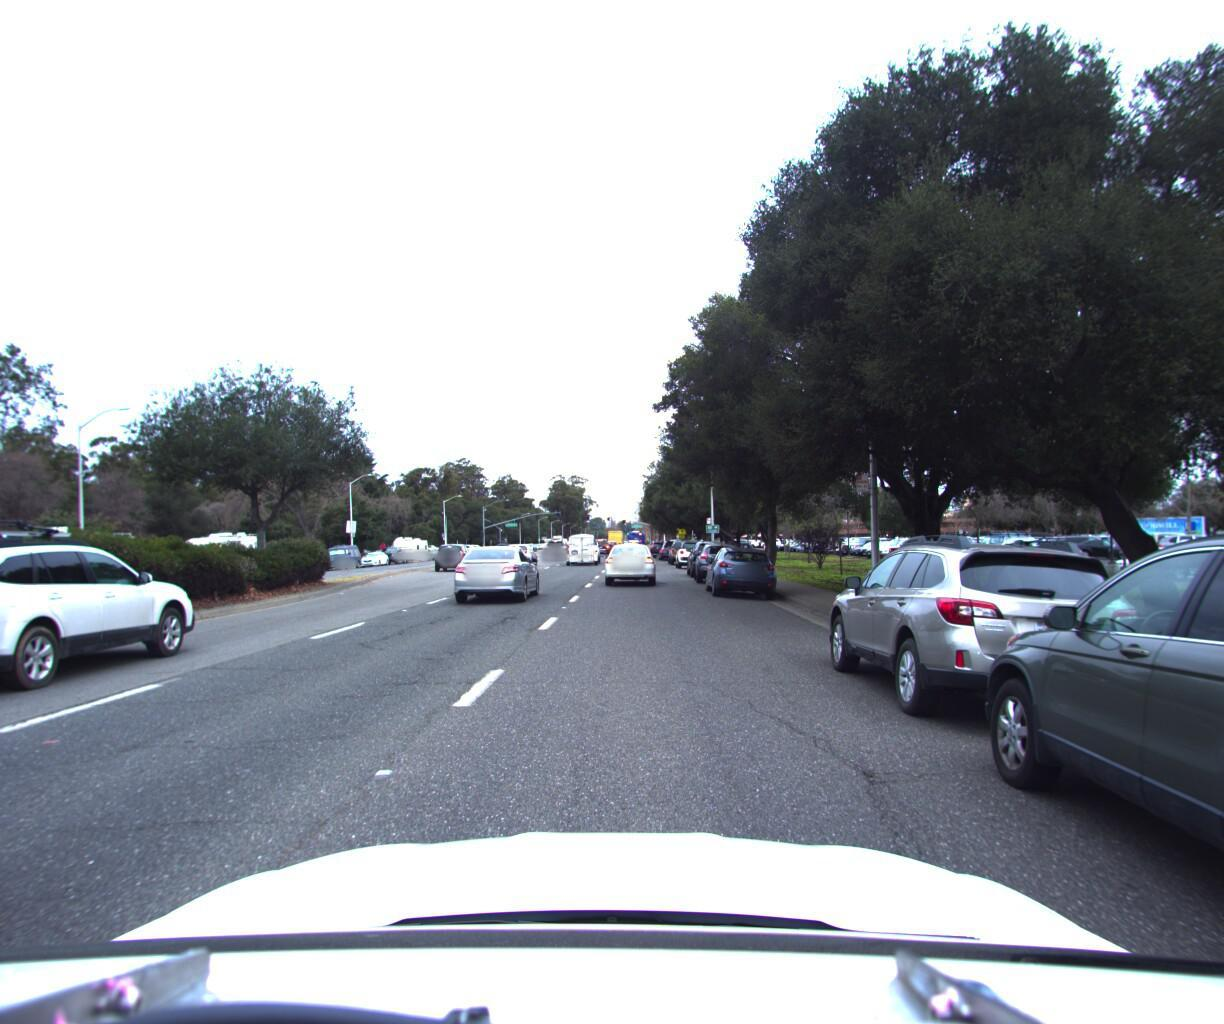car: (954, 484, 1224, 1024), (807, 518, 1182, 756), (0, 517, 209, 710), (448, 538, 543, 604), (702, 537, 777, 594), (602, 535, 656, 583), (692, 535, 741, 579), (685, 530, 734, 573), (433, 539, 476, 569), (566, 527, 603, 562), (319, 540, 363, 566), (671, 532, 707, 562), (504, 536, 539, 562), (665, 532, 696, 560), (356, 546, 390, 563), (543, 533, 569, 554), (591, 531, 611, 550)
other_vehicle: (0, 520, 150, 600), (174, 526, 272, 580)
